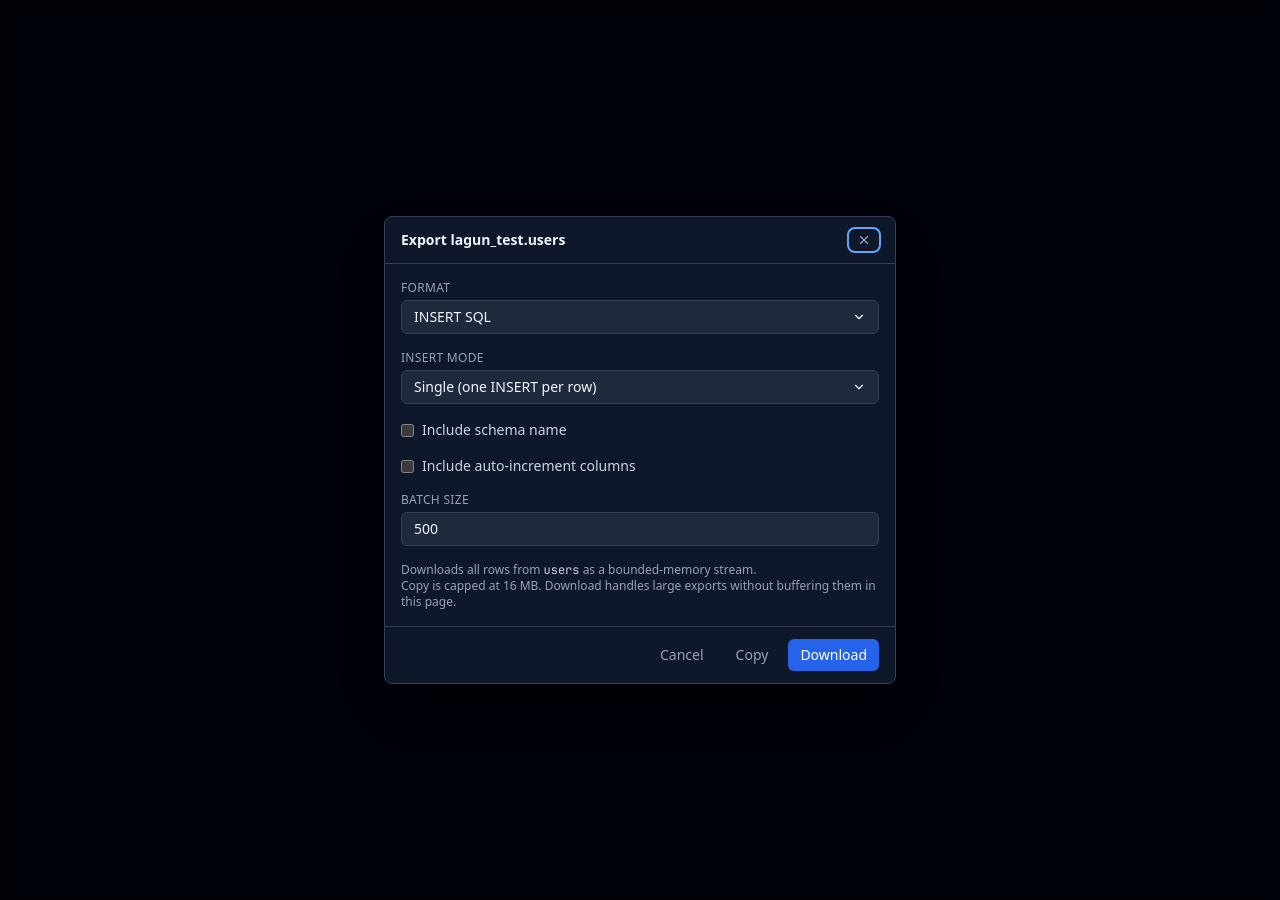
Scenario: ExportDialog copy stream guard › rejects a SQL body that ends before the completion marker
Click the button "Copy" at (752, 655), box x1=724 y1=639 x2=780 y2=671
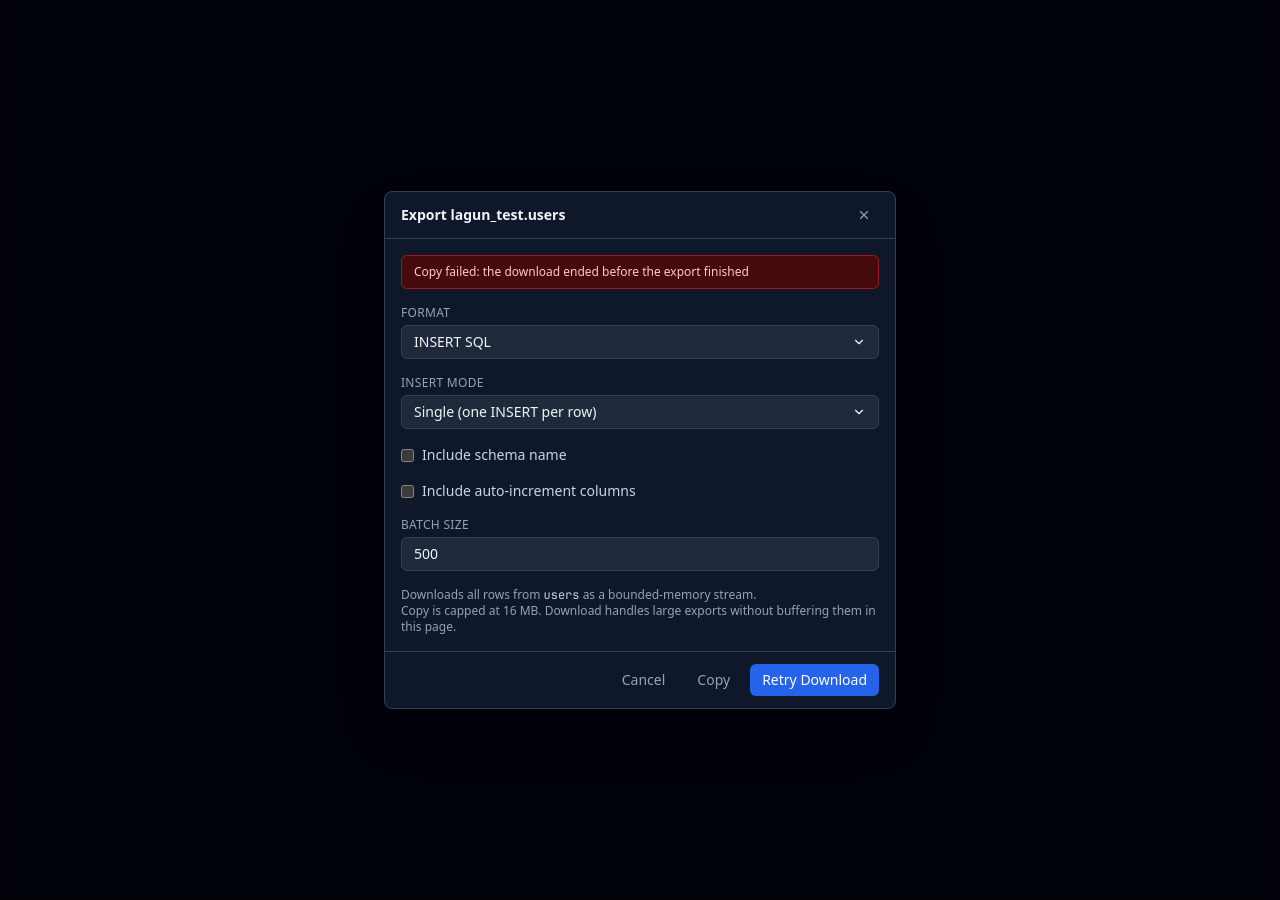
expect the message shows "the download ended before the export finished": met, box x1=414 y1=263 x2=749 y2=280
